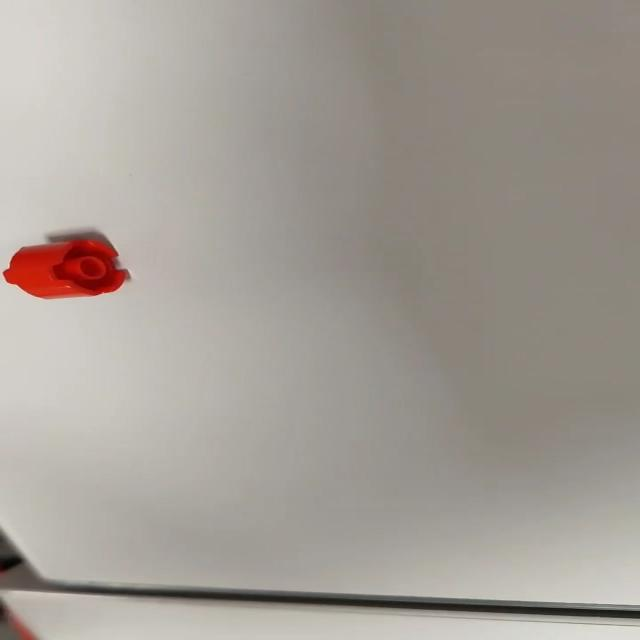S2x2x1: (1, 238, 128, 300)
